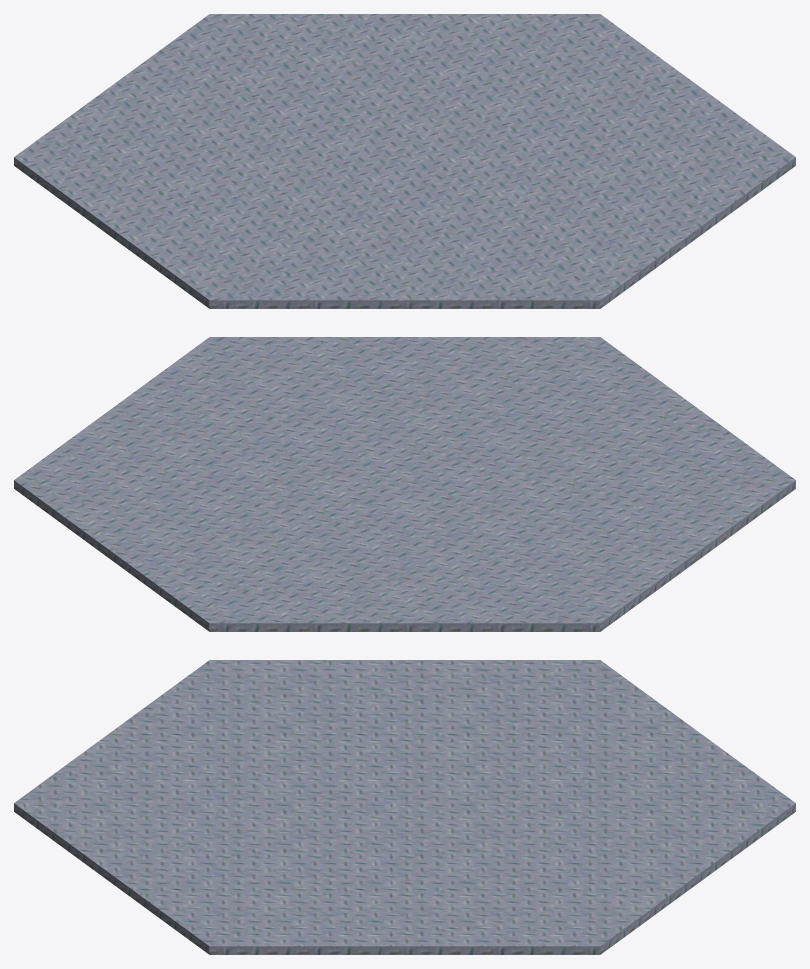
The model's file is space-platform.dae.
The picture shows the model from 3 angles, top to bottom: view 1: azimuth 30°, elevation 25°; view 2: azimuth 150°, elevation 25°; view 3: azimuth 270°, elevation 25°; orthographic projection.
Parts seen in each view (by area): view 1: SketchUp; view 2: SketchUp; view 3: SketchUp.
Boxes of the visible parts, box(x1,y1,x2,y2) form: SketchUp: box(14, 14, 795, 308); SketchUp: box(14, 337, 795, 631); SketchUp: box(14, 660, 795, 954).
Bounding box in the file's own units: 2.25 × 2.6 × 0.3064.
Materials: 2 (2 with a texture image).
